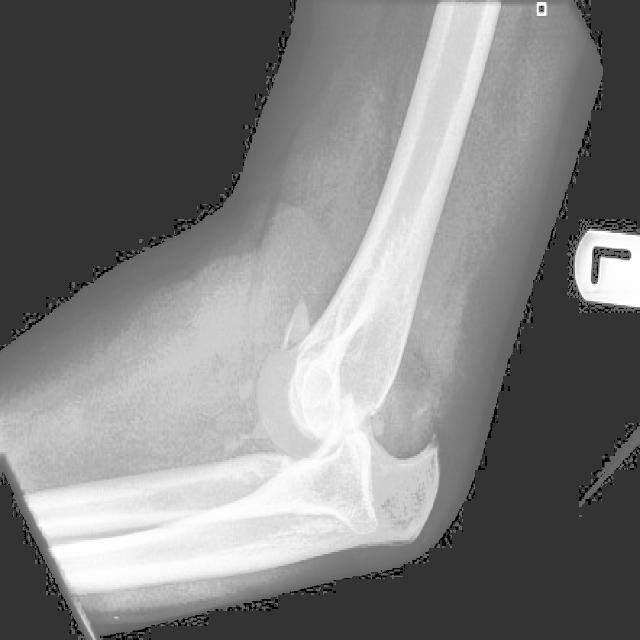Fracture Dislocation: (356, 382, 454, 525)
